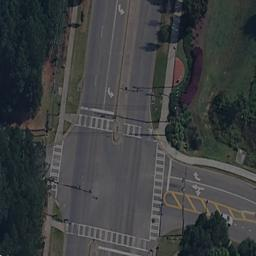Chevron: (167, 195, 255, 224)
Crosswalk: (62, 217, 152, 247), (152, 141, 164, 236), (47, 137, 64, 197), (76, 111, 112, 135), (124, 119, 144, 141)
Left Turn Arrow: (107, 86, 115, 99), (118, 3, 125, 15)
Right Turn Arrow: (191, 168, 202, 180)
Solid White Line: (207, 183, 254, 203), (101, 19, 111, 107), (94, 13, 101, 104), (175, 175, 191, 183)
Stop Line: (96, 244, 136, 256), (76, 105, 114, 116), (169, 157, 174, 190)
Straight, Left Turn Arrow: (189, 186, 206, 195)
